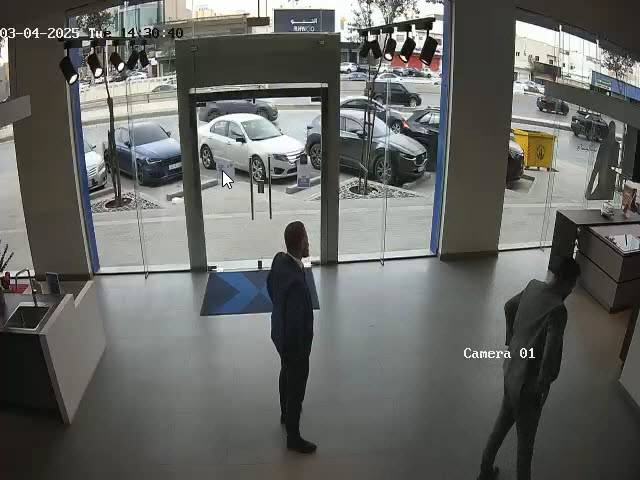employee: (477, 255, 580, 480), (266, 220, 320, 454)
